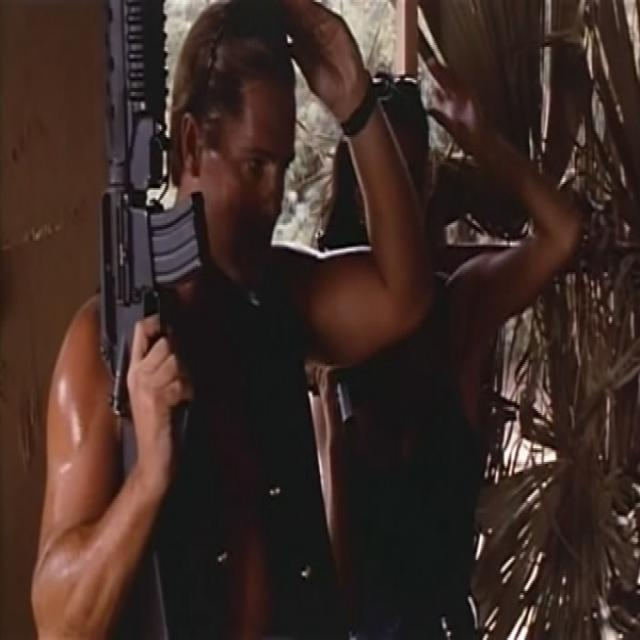rifle: (97, 1, 212, 463)
